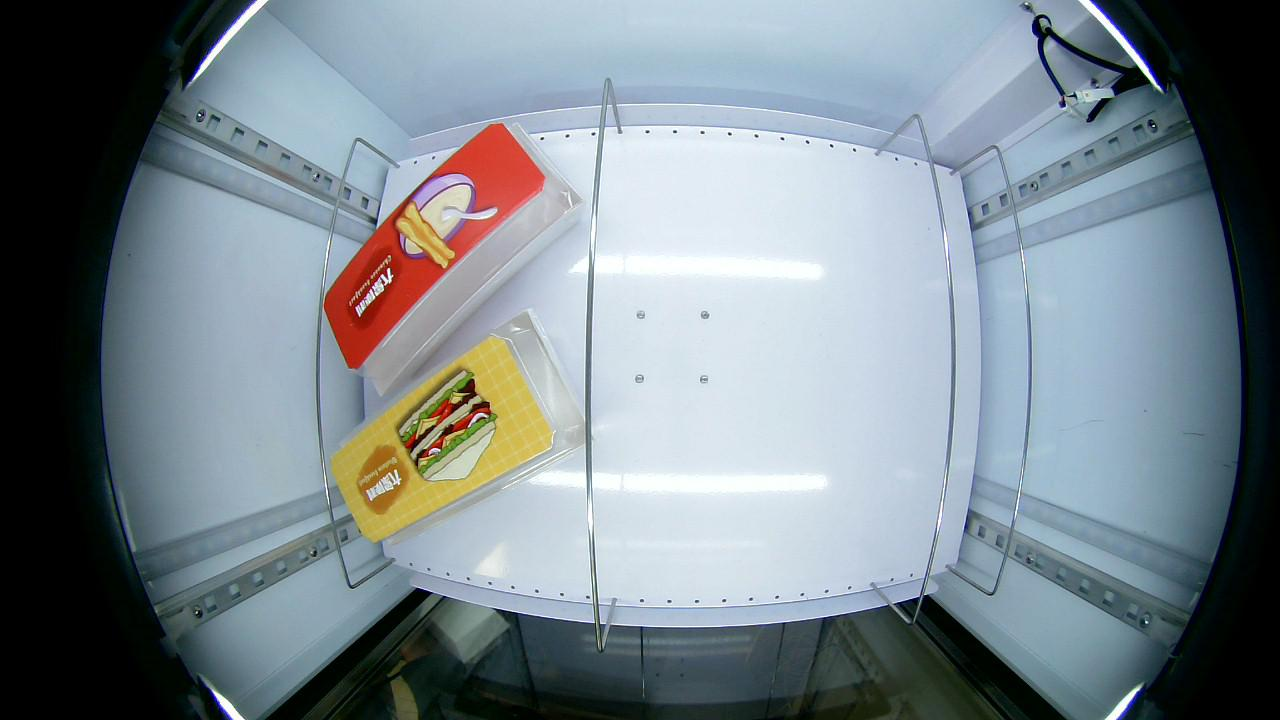goods: (396, 364, 500, 488), (388, 171, 494, 270)
